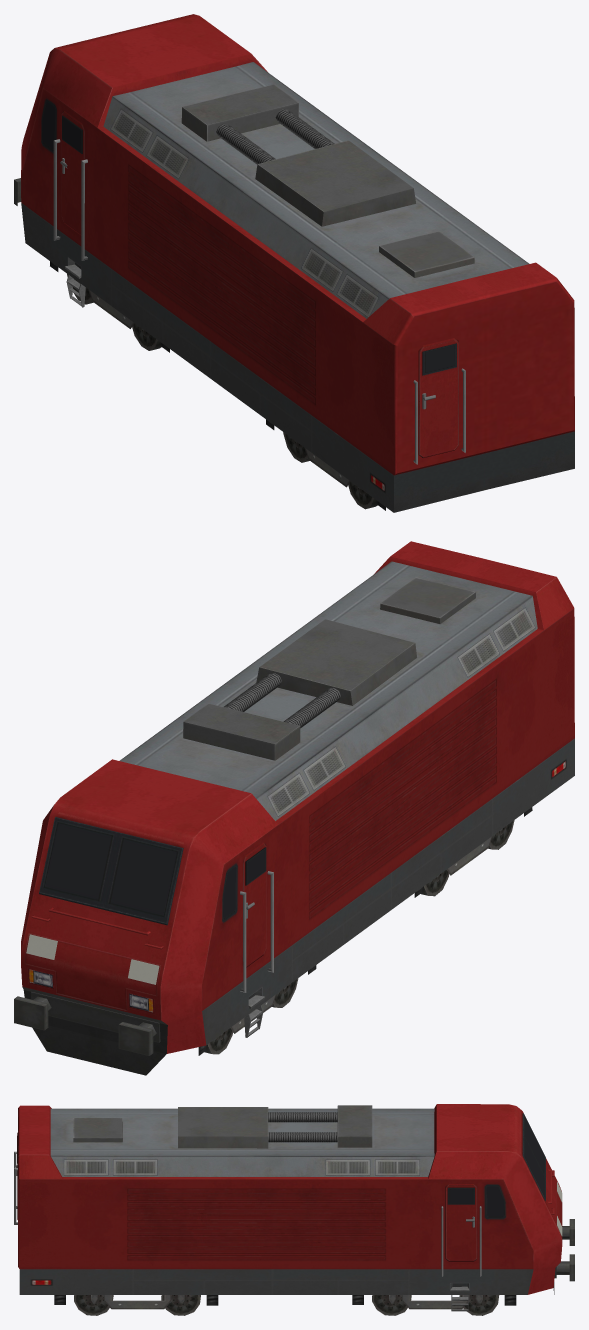
File: Train_Europe.glb
3 views of the same model, one above another, from view 1: azimuth 30°, elevation 25°; view 2: azimuth 150°, elevation 25°; view 3: azimuth 270°, elevation 25° (orthographic). The views are drawn at different scales.
Parts seen in each view (by area): view 1: Train_Europe__LOD3; view 2: Train_Europe__LOD3; view 3: Train_Europe__LOD3.
Part boxes in pixels (left/top/right/bottom): Train_Europe__LOD3: left=14, top=14, right=574, bottom=512; Train_Europe__LOD3: left=14, top=541, right=574, bottom=1075; Train_Europe__LOD3: left=14, top=1104, right=574, bottom=1315.
Size of the model in its own units: 3.86 by 4.71 by 14.12.
1 material, 1 textured.
